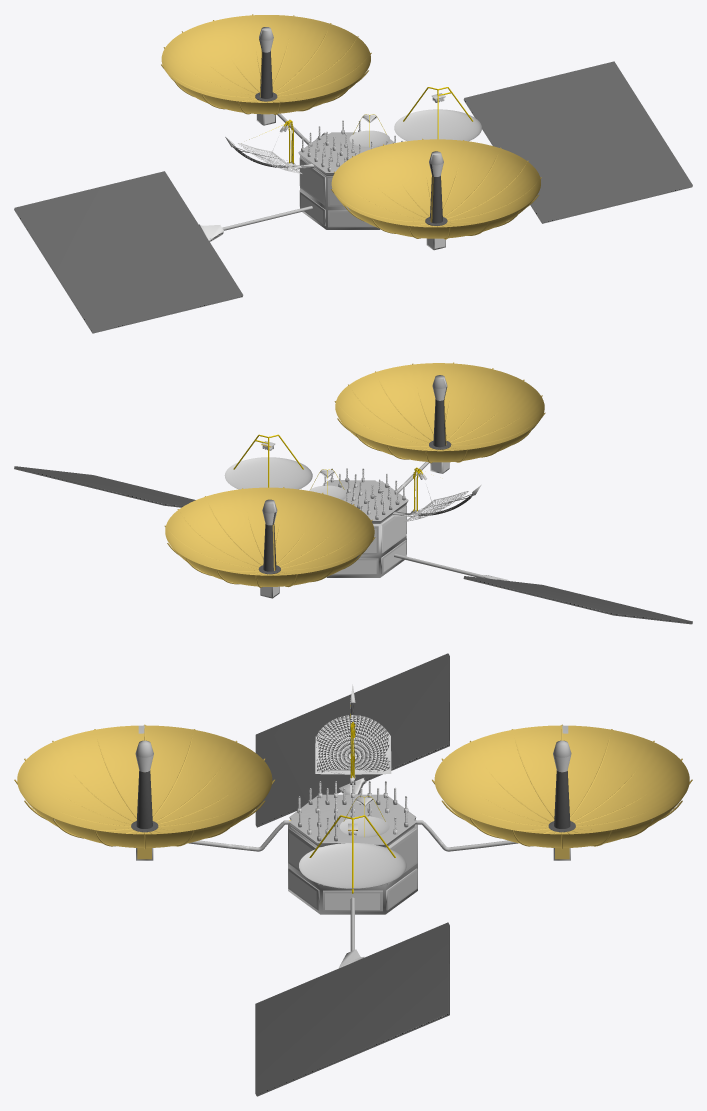
File: tracking-and-data-relay-trds-e.glb
3 renders of one model, top to bottom at view 1: azimuth 30°, elevation 25°; view 2: azimuth 150°, elevation 25°; view 3: azimuth 270°, elevation 25°, orthographic. The views are drawn at different scales.
Visible parts, largest first — view 1: Fake; view 2: Fake; view 3: Fake.
Boxes of the visible parts, x1=… form: Fake: x1=14, y1=14, x2=692, y2=333; Fake: x1=14, y1=362, x2=692, y2=624; Fake: x1=14, y1=653, x2=692, y2=1096.
Bounding box in the file's own units: 94.44 × 21.24 × 75.45.
